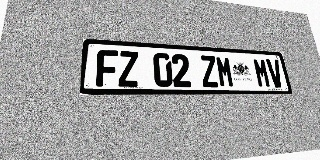0: (153, 52, 173, 87)
2: (171, 54, 191, 87)
F: (96, 49, 118, 87)
M: (215, 56, 235, 87), (252, 58, 272, 87)
V: (266, 59, 285, 88)
Z: (119, 51, 139, 87), (199, 55, 219, 87)
